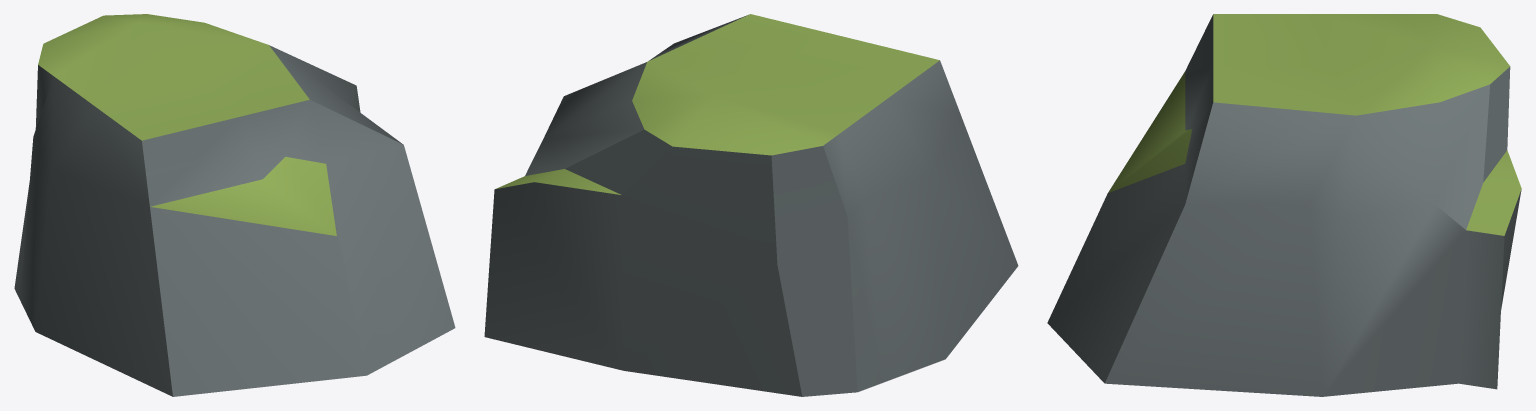
The model's file is rock04.fbx.
3 views of the same model, side by side, from view 1: azimuth 30°, elevation 25°; view 2: azimuth 150°, elevation 25°; view 3: azimuth 270°, elevation 25° (orthographic). The views are drawn at different scales.
Parts seen in each view (by area): view 1: pCube6; view 2: pCube6; view 3: pCube6.
Boxes of the visible parts, <box> form: pCube6: <box>14,14,455,396</box>; pCube6: <box>484,14,1018,396</box>; pCube6: <box>1047,14,1521,396</box>.
Bounding box in the file's own units: 39.99 × 26.04 × 44.29.
